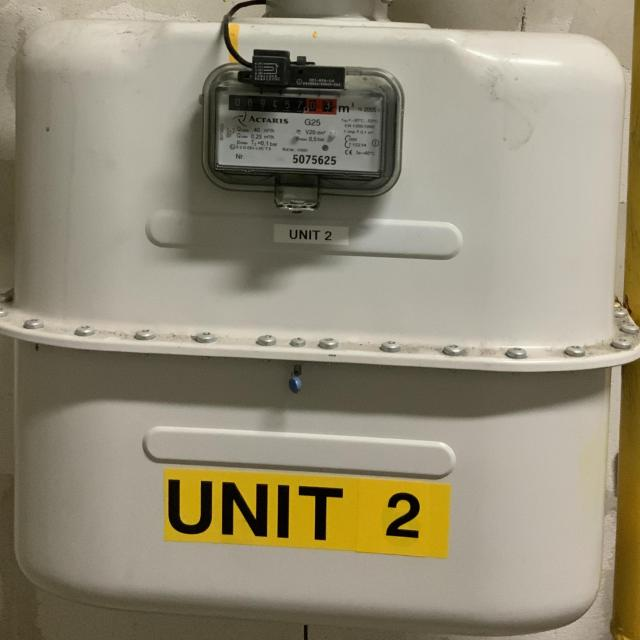gaz_meter: (205, 65, 400, 188)
indication: (224, 92, 341, 117)
